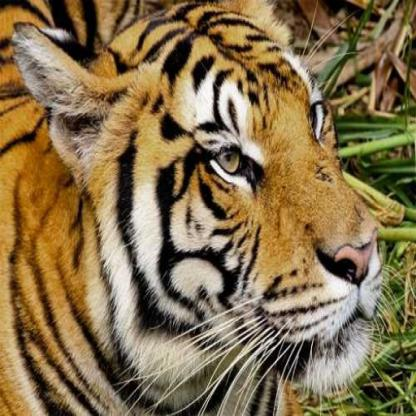Tiger: (0, 0, 388, 415)
